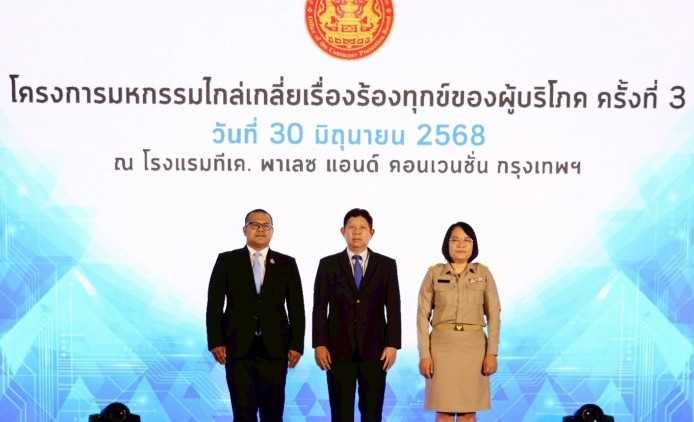text: (8, 73, 686, 113), (112, 148, 583, 181), (310, 123, 486, 147), (207, 116, 315, 147)
